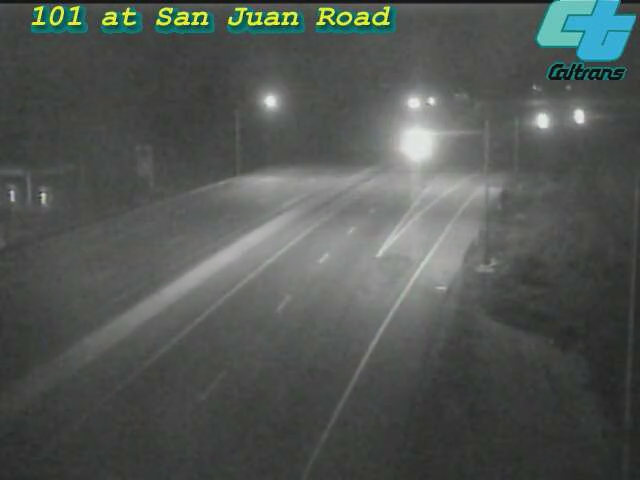vehicle: (387, 121, 437, 171), (514, 96, 564, 146), (555, 92, 605, 142)
